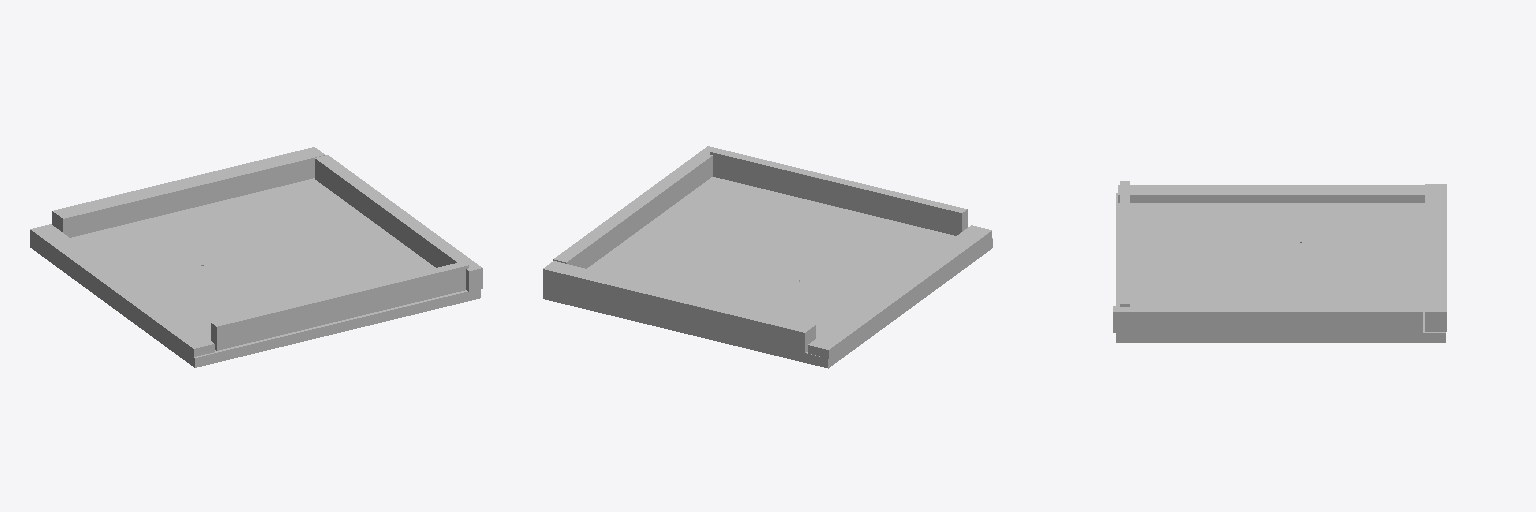
The model's file is playarea2.obj.
3 renders of one model, left to right at view 1: azimuth 30°, elevation 25°; view 2: azimuth 150°, elevation 25°; view 3: azimuth 270°, elevation 25°, orthographic.
Parts seen in each view (by area): view 1: Cube; view 2: Cube; view 3: Cube.
Boxes of the visible parts, x1,y1,x2,y2 form: Cube: [30, 147, 482, 367]; Cube: [543, 146, 992, 368]; Cube: [1113, 181, 1446, 342].
Bounding box in the file's own units: 60.22 × 6.84 × 60.65.